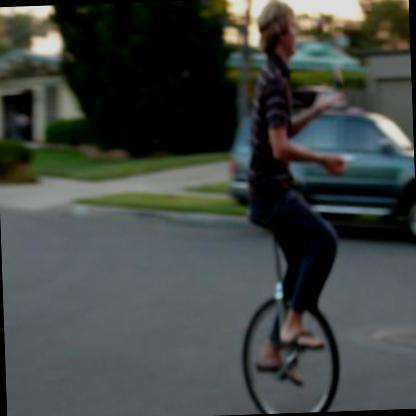car: (227, 98, 415, 251)
